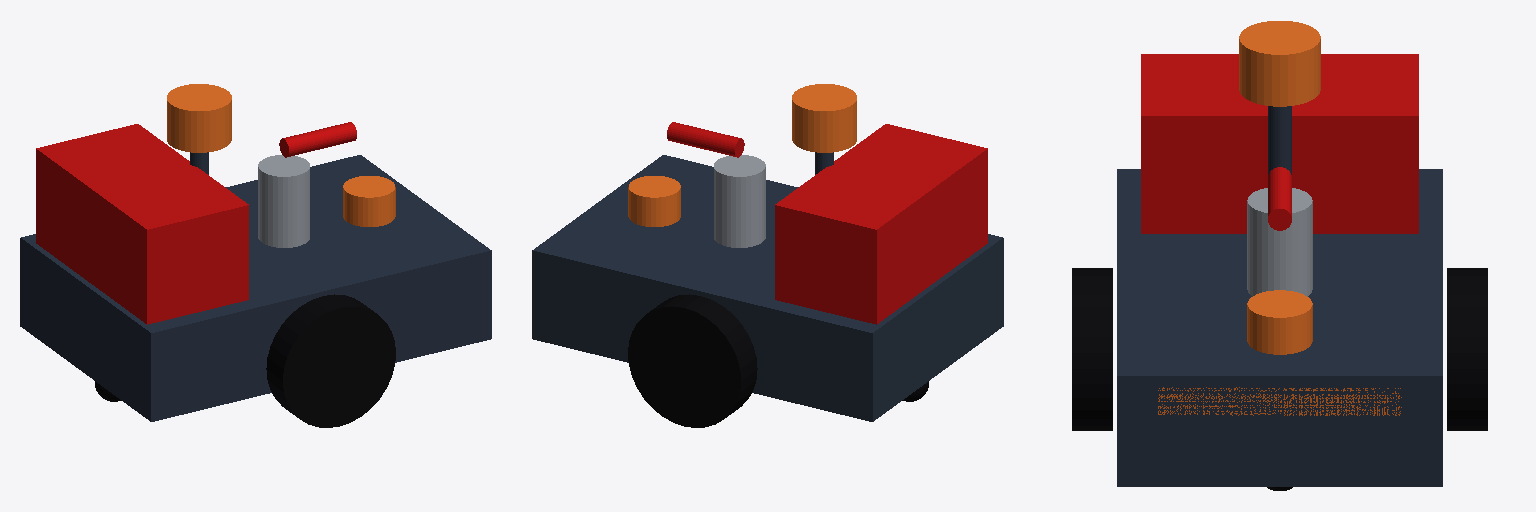
The robot description file, URDF, robot "amr_firefighter":
<?xml version="1.0"?>
<!--
  The sample AMR as a firefighting robot (RFC 0022 §8, docs/guide/tutorial-fire.md): the sample
  differential-drive AMR with a 40 L water tank behind its mast and a water monitor in front, a
  nozzle on a pan and a tilt joint. The nozzle and pump values are illustrative, of the size a
  small electric firefighting robot carries, not a model of any real product: an 8 mm smooth
  bore, discharge coefficient 0.95 (TODO(verify) a smooth-bore nozzle's datasheet), 0.5 bar from
  the pump, which gives 9.5 m/s and 0.48 kg/s (29 L/min) and about 9 m of reach on level ground.
  The tank's water is a weight at the tank that shrinks as it empties; the links' masses are dry.

  The base_link frame is at axle height, in the middle of the chassis. The simulator lifts the
  robot so that its lowest collision shape touches the ground. Aim it with joint commands on
  pan_joint and tilt_joint (tilt up is positive), open the valve on /nozzle/command (0 to 1).
-->
<robot name="amr_firefighter">
  <material name="body">
    <color rgba="0.20 0.24 0.30 1"/>
  </material>
  <material name="accent">
    <color rgba="0.91 0.47 0.18 1"/>
  </material>
  <material name="rubber">
    <color rgba="0.08 0.08 0.09 1"/>
  </material>
  <material name="red">
    <color rgba="0.78 0.10 0.10 1"/>
  </material>
  <material name="steel">
    <color rgba="0.62 0.64 0.67 1"/>
  </material>

  <link name="base_link">
    <inertial>
      <origin xyz="0 0 0.03"/>
      <mass value="20.0"/>
      <!-- box 0.60 x 0.40 x 0.15 m -->
      <inertia ixx="0.30417" iyy="0.6375" izz="0.86667" ixy="0" ixz="0" iyz="0"/>
    </inertial>
    <visual>
      <origin xyz="0 0 0.03"/>
      <geometry>
        <box size="0.60 0.40 0.15"/>
      </geometry>
      <material name="body"/>
    </visual>
    <visual>
      <origin xyz="0.28 0 0.07"/>
      <geometry>
        <box size="0.04 0.30 0.04"/>
      </geometry>
      <material name="accent"/>
    </visual>
    <collision>
      <origin xyz="0 0 0.03"/>
      <geometry>
        <box size="0.60 0.40 0.15"/>
      </geometry>
    </collision>
  </link>

  <!-- Driven wheels: radius 0.10 m, width 0.05 m, 1.5 kg. -->
  <link name="left_wheel">
    <inertial>
      <mass value="1.5"/>
      <inertia ixx="0.0040625" iyy="0.0075" izz="0.0040625" ixy="0" ixz="0" iyz="0"/>
    </inertial>
    <visual>
      <origin rpy="1.5707963 0 0"/>
      <geometry>
        <cylinder radius="0.10" length="0.05"/>
      </geometry>
      <material name="rubber"/>
    </visual>
    <collision>
      <origin rpy="1.5707963 0 0"/>
      <geometry>
        <cylinder radius="0.10" length="0.05"/>
      </geometry>
    </collision>
  </link>
  <joint name="left_wheel_joint" type="continuous">
    <parent link="base_link"/>
    <child link="left_wheel"/>
    <origin xyz="0 0.23 0"/>
    <axis xyz="0 1 0"/>
    <limit effort="10.0" velocity="20.0"/>
  </joint>

  <link name="right_wheel">
    <inertial>
      <mass value="1.5"/>
      <inertia ixx="0.0040625" iyy="0.0075" izz="0.0040625" ixy="0" ixz="0" iyz="0"/>
    </inertial>
    <visual>
      <origin rpy="1.5707963 0 0"/>
      <geometry>
        <cylinder radius="0.10" length="0.05"/>
      </geometry>
      <material name="rubber"/>
    </visual>
    <collision>
      <origin rpy="1.5707963 0 0"/>
      <geometry>
        <cylinder radius="0.10" length="0.05"/>
      </geometry>
    </collision>
  </link>
  <joint name="right_wheel_joint" type="continuous">
    <parent link="base_link"/>
    <child link="right_wheel"/>
    <origin xyz="0 -0.23 0"/>
    <axis xyz="0 1 0"/>
    <limit effort="10.0" velocity="20.0"/>
  </joint>

  <!-- Swivel casters, front and back: a fork turning about z, a 0.03 m ball under it. -->
  <link name="front_caster_fork">
    <inertial>
      <mass value="0.1"/>
      <inertia ixx="0.0001" iyy="0.0001" izz="0.0001" ixy="0" ixz="0" iyz="0"/>
    </inertial>
    <visual>
      <origin xyz="-0.015 0 -0.01"/>
      <geometry>
        <box size="0.04 0.03 0.03"/>
      </geometry>
      <material name="steel"/>
    </visual>
  </link>
  <joint name="front_caster_swivel" type="continuous">
    <parent link="base_link"/>
    <child link="front_caster_fork"/>
    <origin xyz="0.22 0 -0.04"/>
    <axis xyz="0 0 1"/>
  </joint>
  <link name="front_caster_wheel">
    <inertial>
      <mass value="0.2"/>
      <inertia ixx="0.000072" iyy="0.000072" izz="0.000072" ixy="0" ixz="0" iyz="0"/>
    </inertial>
    <visual>
      <geometry>
        <sphere radius="0.03"/>
      </geometry>
      <material name="rubber"/>
    </visual>
    <collision>
      <geometry>
        <sphere radius="0.03"/>
      </geometry>
    </collision>
  </link>
  <joint name="front_caster_axle" type="continuous">
    <parent link="front_caster_fork"/>
    <child link="front_caster_wheel"/>
    <origin xyz="-0.03 0 -0.03"/>
    <axis xyz="0 1 0"/>
  </joint>

  <link name="rear_caster_fork">
    <inertial>
      <mass value="0.1"/>
      <inertia ixx="0.0001" iyy="0.0001" izz="0.0001" ixy="0" ixz="0" iyz="0"/>
    </inertial>
    <visual>
      <origin xyz="-0.015 0 -0.01"/>
      <geometry>
        <box size="0.04 0.03 0.03"/>
      </geometry>
      <material name="steel"/>
    </visual>
  </link>
  <joint name="rear_caster_swivel" type="continuous">
    <parent link="base_link"/>
    <child link="rear_caster_fork"/>
    <origin xyz="-0.22 0 -0.04"/>
    <axis xyz="0 0 1"/>
  </joint>
  <link name="rear_caster_wheel">
    <inertial>
      <mass value="0.2"/>
      <inertia ixx="0.000072" iyy="0.000072" izz="0.000072" ixy="0" ixz="0" iyz="0"/>
    </inertial>
    <visual>
      <geometry>
        <sphere radius="0.03"/>
      </geometry>
      <material name="rubber"/>
    </visual>
    <collision>
      <geometry>
        <sphere radius="0.03"/>
      </geometry>
    </collision>
  </link>
  <joint name="rear_caster_axle" type="continuous">
    <parent link="rear_caster_fork"/>
    <child link="rear_caster_wheel"/>
    <origin xyz="-0.03 0 -0.03"/>
    <axis xyz="0 1 0"/>
  </joint>

  <!-- A 2D lidar on a short mast at the front, above the chassis. -->
  <link name="lidar_link">
    <inertial>
      <mass value="0.3"/>
      <inertia ixx="0.0002" iyy="0.0002" izz="0.0002" ixy="0" ixz="0" iyz="0"/>
    </inertial>
    <visual>
      <geometry>
        <cylinder radius="0.04" length="0.05"/>
      </geometry>
      <material name="accent"/>
    </visual>
  </link>
  <joint name="lidar_mount" type="fixed">
    <parent link="base_link"/>
    <child link="lidar_link"/>
    <origin xyz="0.20 0 0.13"/>
  </joint>

  <!-- Roof lidar on a mast: visual only, so that its own beams never hit it. -->
  <link name="lidar_mast">
    <inertial>
      <mass value="0.2"/>
      <inertia ixx="0.0007" iyy="0.0007" izz="0.00002" ixy="0" ixz="0" iyz="0"/>
    </inertial>
    <visual>
      <geometry>
        <cylinder radius="0.015" length="0.20"/>
      </geometry>
      <material name="body"/>
    </visual>
  </link>
  <joint name="mast_mount" type="fixed">
    <parent link="base_link"/>
    <child link="lidar_mast"/>
    <origin xyz="-0.10 0 0.205"/>
  </joint>
  <link name="top_lidar_link">
    <inertial>
      <mass value="0.8"/>
      <inertia ixx="0.0008" iyy="0.0008" izz="0.001" ixy="0" ixz="0" iyz="0"/>
    </inertial>
    <visual>
      <geometry>
        <cylinder radius="0.05" length="0.07"/>
      </geometry>
      <material name="accent"/>
    </visual>
  </link>
  <joint name="top_lidar_mount" type="fixed">
    <parent link="lidar_mast"/>
    <child link="top_lidar_link"/>
    <origin xyz="0 0 0.135"/>
  </joint>

  <!-- The water tank: 40 L behind the mast. Its link is the empty tank (2 kg). -->
  <link name="tank_link">
    <inertial>
      <mass value="2.0"/>
      <inertia ixx="0.0236" iyy="0.0097" izz="0.0247" ixy="0" ixz="0" iyz="0"/>
    </inertial>
    <visual>
      <geometry>
        <box size="0.18 0.34 0.16"/>
      </geometry>
      <material name="red"/>
    </visual>
    <collision>
      <geometry>
        <box size="0.18 0.34 0.16"/>
      </geometry>
    </collision>
  </link>
  <joint name="tank_mount" type="fixed">
    <parent link="base_link"/>
    <child link="tank_link"/>
    <origin xyz="-0.20 0 0.185"/>
  </joint>
  <!-- The monitor: a turret that pans about z and a barrel that tilts up. -->
  <link name="pan_link">
    <inertial>
      <origin xyz="0 0 0.06"/>
      <mass value="0.5"/>
      <inertia ixx="0.0007" iyy="0.0007" izz="0.0004" ixy="0" ixz="0" iyz="0"/>
    </inertial>
    <visual>
      <origin xyz="0 0 0.06"/>
      <geometry>
        <cylinder radius="0.04" length="0.12"/>
      </geometry>
      <material name="steel"/>
    </visual>
  </link>
  <joint name="pan_joint" type="revolute">
    <parent link="base_link"/>
    <child link="pan_link"/>
    <origin xyz="0.05 0 0.105"/>
    <axis xyz="0 0 1"/>
    <limit lower="-3.1416" upper="3.1416" effort="5.0" velocity="1.5"/>
    <dynamics damping="0.2"/>
  </joint>
  <link name="tilt_link">
    <inertial>
      <origin xyz="0.06 0 0"/>
      <mass value="0.3"/>
      <inertia ixx="0.0001" iyy="0.0004" izz="0.0004" ixy="0" ixz="0" iyz="0"/>
    </inertial>
    <visual>
      <origin xyz="0.06 0 0" rpy="0 1.5707963 0"/>
      <geometry>
        <cylinder radius="0.015" length="0.12"/>
      </geometry>
      <material name="red"/>
    </visual>
  </link>
  <!-- Tilting up is a positive angle: the axis is -y. -->
  <joint name="tilt_joint" type="revolute">
    <parent link="pan_link"/>
    <child link="tilt_link"/>
    <origin xyz="0 0 0.15"/>
    <axis xyz="0 -1 0"/>
    <limit lower="-0.5" upper="1.2" effort="5.0" velocity="1.5"/>
    <dynamics damping="0.2"/>
  </joint>
  <gazebo reference="tank_link">
    <water_tank name="tank" capacity="0.04" initial="1"/>
  </gazebo>
  <gazebo reference="tilt_link">
    <nozzle name="nozzle" xyz="0.12 0 0" axis="1 0 0" diameter="0.008"
            discharge_coefficient="0.95" pressure="50000" agent="water"
            spray_half_angle="0.03" pump_efficiency="0.5" tank="tank"/>
  </gazebo>
  <!-- Sensors, in the Gazebo form most robot descriptions use. -->
  <gazebo reference="lidar_link">
    <sensor name="front_lidar" type="gpu_lidar">
      <update_rate>10</update_rate>
      <lidar>
        <scan>
          <horizontal>
            <samples>720</samples>
            <min_angle>-3.14159</min_angle>
            <max_angle>3.14159</max_angle>
          </horizontal>
        </scan>
        <range>
          <min>0.12</min>
          <max>20.0</max>
        </range>
        <noise>
          <type>gaussian</type>
          <stddev>0.01</stddev>
        </noise>
      </lidar>
    </sensor>
  </gazebo>
  <!-- A 16-ring 3D lidar: 360 degrees in 900 columns, rings from -15 to +15 degrees. -->
  <gazebo reference="top_lidar_link">
    <sensor name="top_lidar" type="gpu_lidar">
      <update_rate>10</update_rate>
      <lidar>
        <scan>
          <horizontal>
            <samples>900</samples>
            <min_angle>-3.14159</min_angle>
            <max_angle>3.14159</max_angle>
          </horizontal>
          <vertical>
            <samples>16</samples>
            <min_angle>-0.261799</min_angle>
            <max_angle>0.261799</max_angle>
          </vertical>
        </scan>
        <range>
          <min>0.3</min>
          <max>40.0</max>
        </range>
        <noise>
          <type>gaussian</type>
          <stddev>0.02</stddev>
        </noise>
      </lidar>
    </sensor>
  </gazebo>
  <gazebo reference="base_link">
    <sensor name="imu" type="imu">
      <update_rate>200</update_rate>
      <imu>
        <angular_velocity>
          <z><noise type="gaussian"><stddev>0.002</stddev></noise></z>
        </angular_velocity>
        <linear_acceleration>
          <x><noise type="gaussian"><stddev>0.02</stddev></noise></x>
        </linear_acceleration>
      </imu>
    </sensor>
  </gazebo>

  <!-- Which joints take commands: the driven wheels, by speed (diff_drive_controller) or torque. -->
  <ros2_control name="LagrangeSystem" type="system">
    <hardware>
      <plugin>lagrange_ros2_control/LagrangeSystem</plugin>
    </hardware>
    <joint name="left_wheel_joint">
      <command_interface name="velocity"/>
      <command_interface name="effort"/>
      <state_interface name="position"/>
      <state_interface name="velocity"/>
      <!-- Wheel speed servo (N·m per rad/s, N·m per rad) for velocity commands. -->
      <param name="velocity_p">8.0</param>
      <param name="velocity_i">40.0</param>
      <!-- Wheel encoder: counts per revolution after quadrature (a 4096-line encoder). -->
      <param name="encoder_resolution">16384</param>
    </joint>
    <joint name="right_wheel_joint">
      <command_interface name="velocity"/>
      <command_interface name="effort"/>
      <state_interface name="position"/>
      <state_interface name="velocity"/>
      <!-- Wheel speed servo (N·m per rad/s, N·m per rad) for velocity commands. -->
      <param name="velocity_p">8.0</param>
      <param name="velocity_i">40.0</param>
      <!-- Wheel encoder: counts per revolution after quadrature (a 4096-line encoder). -->
      <param name="encoder_resolution">16384</param>
    </joint>
  </ros2_control>
</robot>

--- Render facts (derived) ---
Views: 3 orthographic renders of the robot side by side, from view 1: azimuth 30°, elevation 25°; view 2: azimuth 150°, elevation 25°; view 3: azimuth 270°, elevation 25°.
Model amr_firefighter with 13 links and 12 joints (2 revolute, 6 continuous, 4 fixed), rooted at base_link, posed every joint at zero.
Links seen in each view (by area): view 1: base_link, tank_link, right_wheel, pan_link, top_lidar_link, lidar_link, tilt_link; view 2: base_link, tank_link, left_wheel, pan_link, top_lidar_link, lidar_link, tilt_link; view 3: base_link, tank_link, left_wheel, right_wheel, top_lidar_link, pan_link, lidar_link, lidar_mast, tilt_link.
Boxes of the visible links, <box> form: base_link: <box>20,155,491,421</box>; tank_link: <box>36,124,248,324</box>; right_wheel: <box>266,294,395,427</box>; pan_link: <box>258,155,309,247</box>; top_lidar_link: <box>167,84,231,152</box>; lidar_link: <box>343,176,395,226</box>; tilt_link: <box>279,122,356,157</box>; base_link: <box>532,155,1003,421</box>; tank_link: <box>775,124,987,324</box>; left_wheel: <box>628,294,757,427</box>; pan_link: <box>714,155,765,247</box>; top_lidar_link: <box>792,84,856,152</box>; lidar_link: <box>628,176,680,226</box>; tilt_link: <box>667,122,744,157</box>; base_link: <box>1117,169,1442,486</box>; tank_link: <box>1141,54,1418,233</box>; left_wheel: <box>1447,268,1487,430</box>; right_wheel: <box>1072,268,1112,430</box>; top_lidar_link: <box>1239,21,1320,106</box>; pan_link: <box>1247,188,1312,296</box>; lidar_link: <box>1247,290,1312,354</box>; lidar_mast: <box>1268,106,1291,174</box>; tilt_link: <box>1268,167,1291,230</box>.
Size in the robot's own frame: 0.6 by 0.51 by 0.475 metres.
Geometry: primitives only (box / cylinder / sphere), no mesh files.
